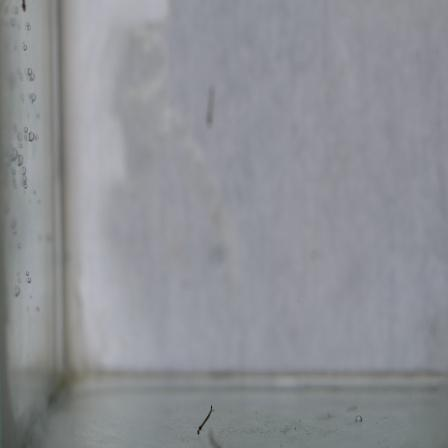Jentik-Nyamuk: (191, 402, 218, 436)
